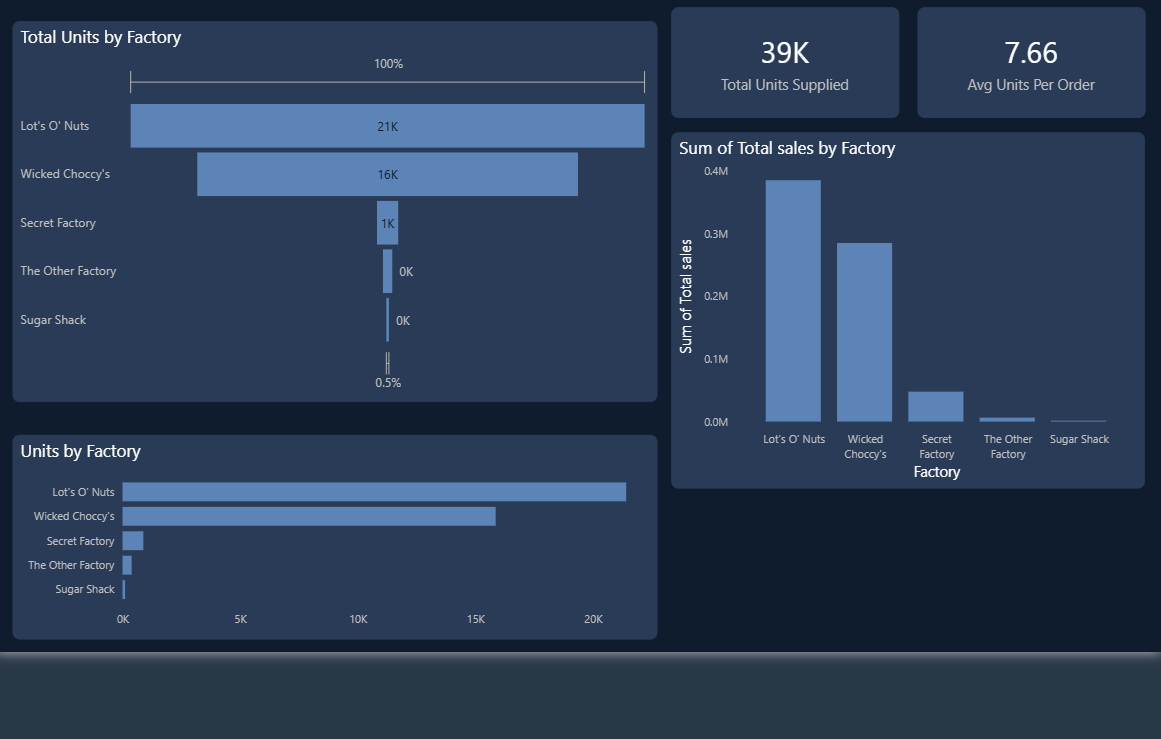

This screenshot's page, from the dashboard's own definition file:
{"tool":"powerbi","page":{"name":"Supply Chain","canvas":[1280,720],"ordinal":3},"visuals":[{"type":"barChart","title":"Units by Factory","fields":{"Category":["Candy_Factories.Factory"],"Y":["Sum(Candy_Sales.Units)"]},"box":[19.2,481.6,708.1,225],"z":1000},{"type":"card","title":"Total sales by Factory","fields":{"Values":["Candy_Factories.Total Units"]},"box":[742.9,12.9,250,121.4],"z":2000},{"type":"columnChart","fields":{"Category":["Candy_Factories.Factory"],"Y":["Sum(Candy_Sales.Total sales)"]},"box":[742.9,150,520,391.4],"z":3000},{"type":"card","title":"Total sales by Factory","fields":{"Values":["Candy_Factories.Avg Units Per Order"]},"box":[1012.9,12.9,250,121.4],"z":4000},{"type":"funnel","fields":{"Category":["Candy_Factories.Factory"],"Y":["Candy_Factories.Total Units"]},"box":[19.2,27.4,708.1,418.5],"z":4001}]}

Visuals, with their boxes on the page's 1280x720 design canvas (x1, y1, x2, y2). These are canvas units, not pixel positions in the 1161x739 screenshot, which may show the page scaled, cropped or inside an application window:
"Units by Factory" barChart: rect(19, 482, 727, 707)
"Total sales by Factory" card: rect(743, 13, 993, 134)
columnChart - Candy_Factories.Factory x Sum(Candy_Sales.Total sales): rect(743, 150, 1263, 541)
"Total sales by Factory" card: rect(1013, 13, 1263, 134)
funnel - Candy_Factories.Factory x Candy_Factories.Total Units: rect(19, 27, 727, 446)
